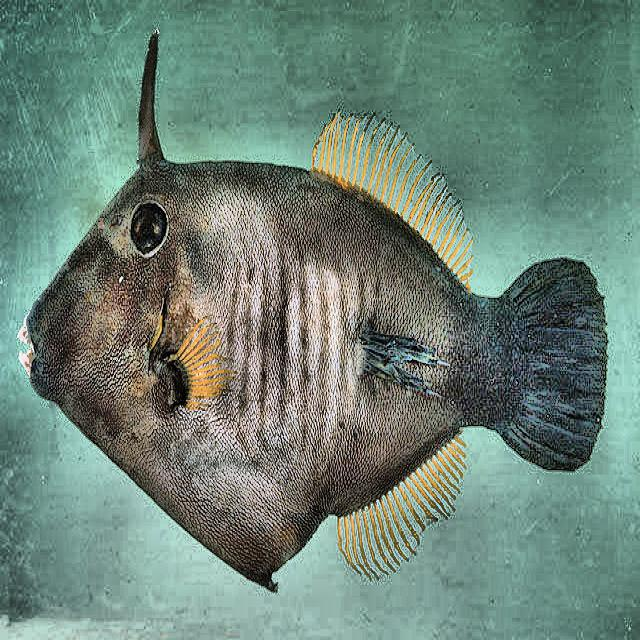fish: (16, 22, 603, 592)
